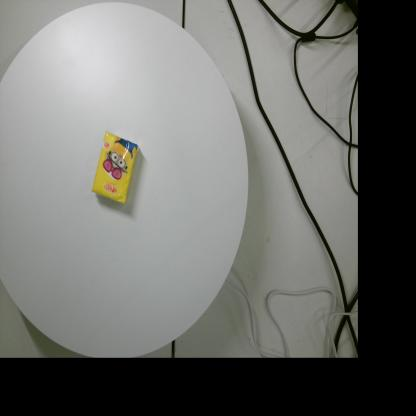Tissue: (90, 130, 140, 205)
